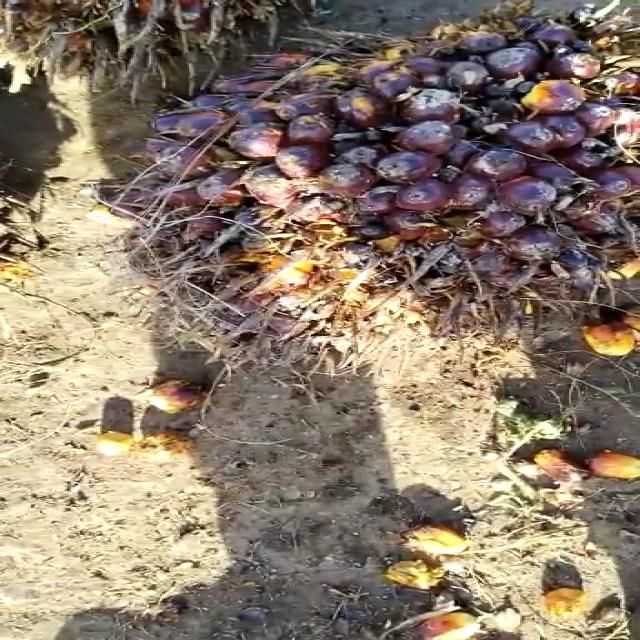palm oil: (121, 0, 640, 360)
